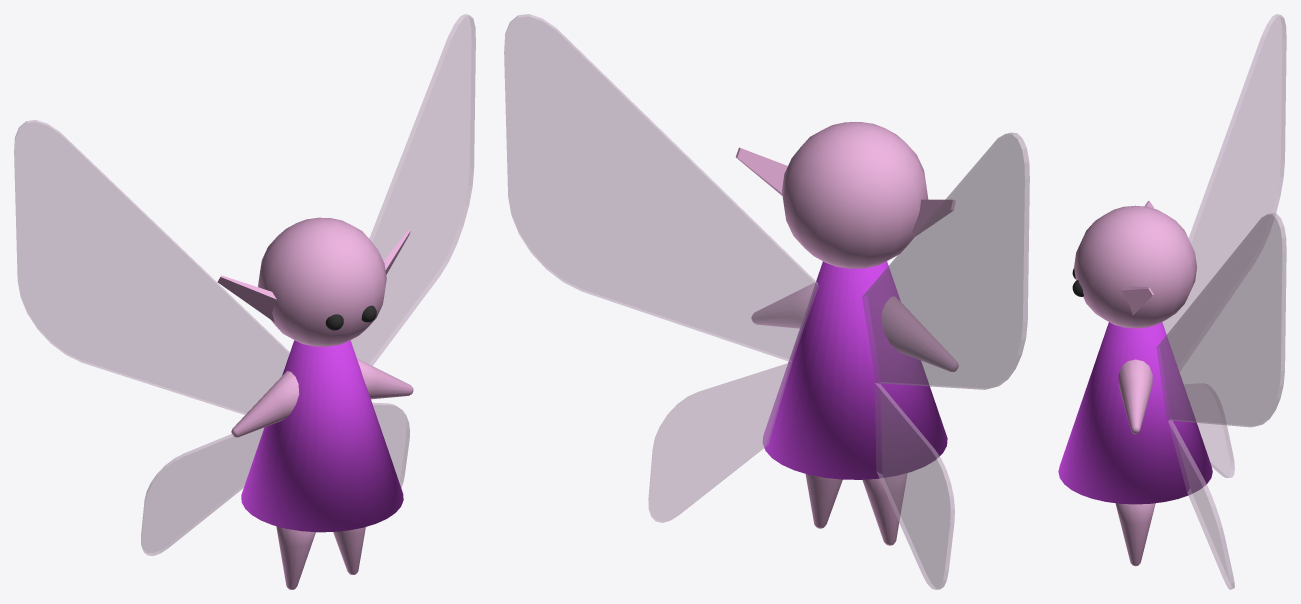
File: fairy.fbx
The picture shows the model from 3 angles, left to right: view 1: azimuth 30°, elevation 25°; view 2: azimuth 150°, elevation 25°; view 3: azimuth 270°, elevation 25°; orthographic projection. The views are drawn at different scales.
Visible parts, largest first — view 1: Fairy; view 2: Fairy; view 3: Fairy.
Boxes of the visible parts, x1,y1,x2,y2 form: Fairy: [14, 14, 475, 589]; Fairy: [504, 14, 1029, 589]; Fairy: [1058, 14, 1286, 589].
Size of the model in its own units: 45.34 by 20.45 by 43.02.
